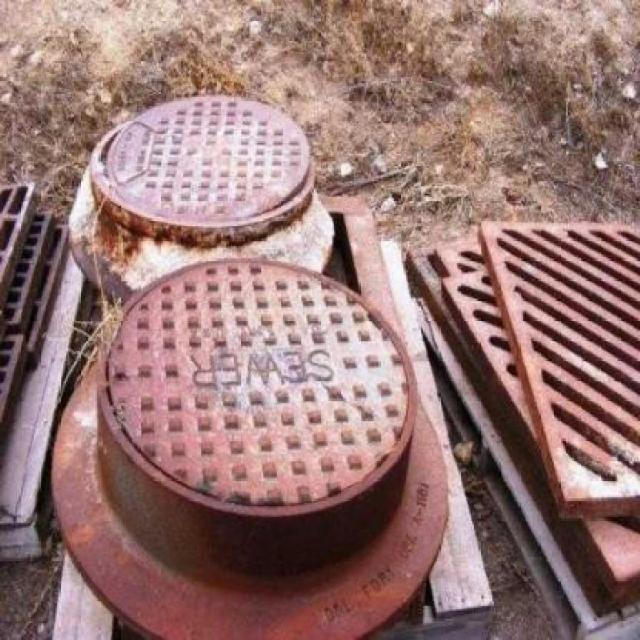Manhole: (52, 266, 424, 604), (90, 88, 314, 242)
